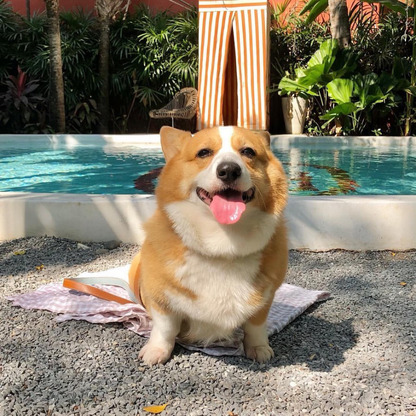Corgi: (130, 101, 303, 374)
